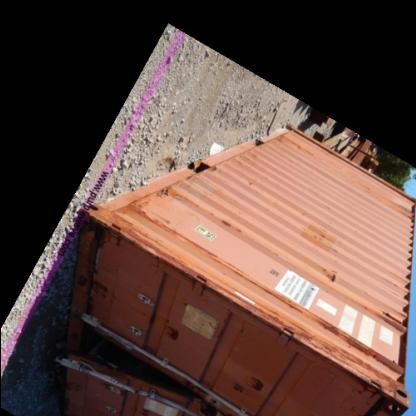Damage: (298, 298, 402, 402), (64, 269, 118, 315), (298, 210, 336, 252), (231, 367, 273, 400), (150, 314, 192, 344), (276, 131, 314, 158), (204, 206, 242, 232), (316, 266, 346, 291)
